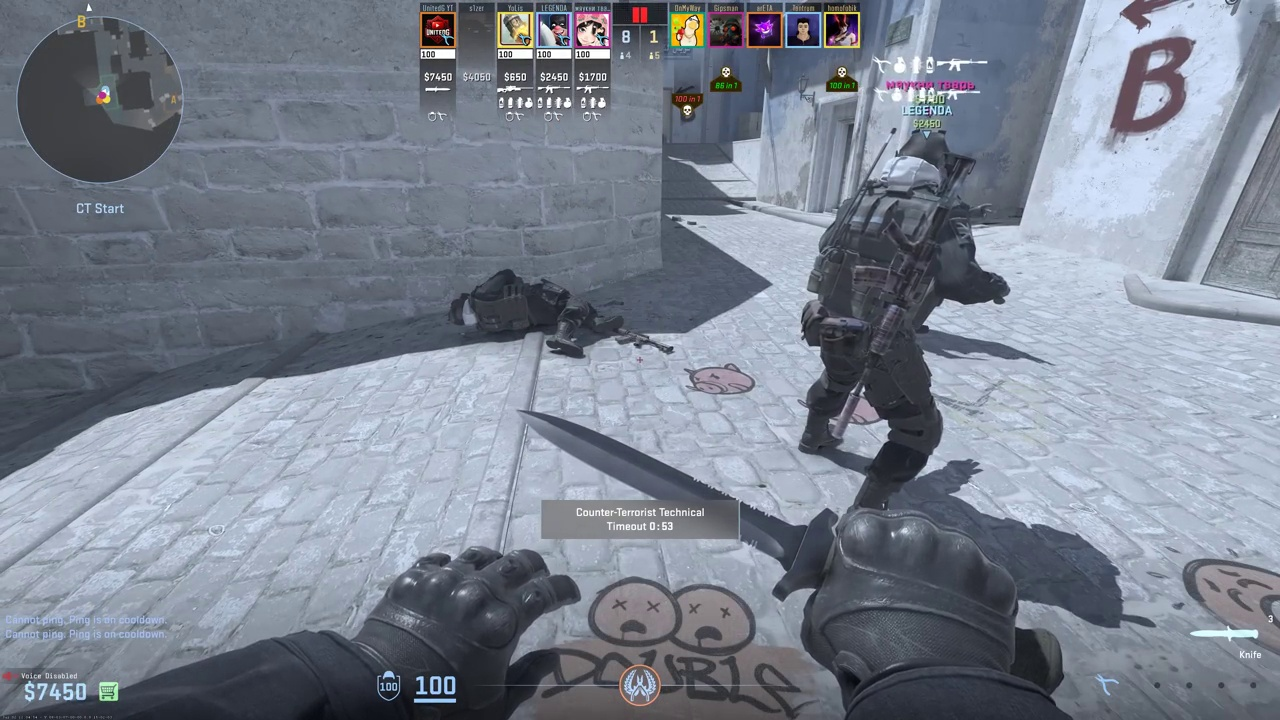CT: (810, 135, 966, 510)
Terrorist: (1116, 2, 1202, 149)
